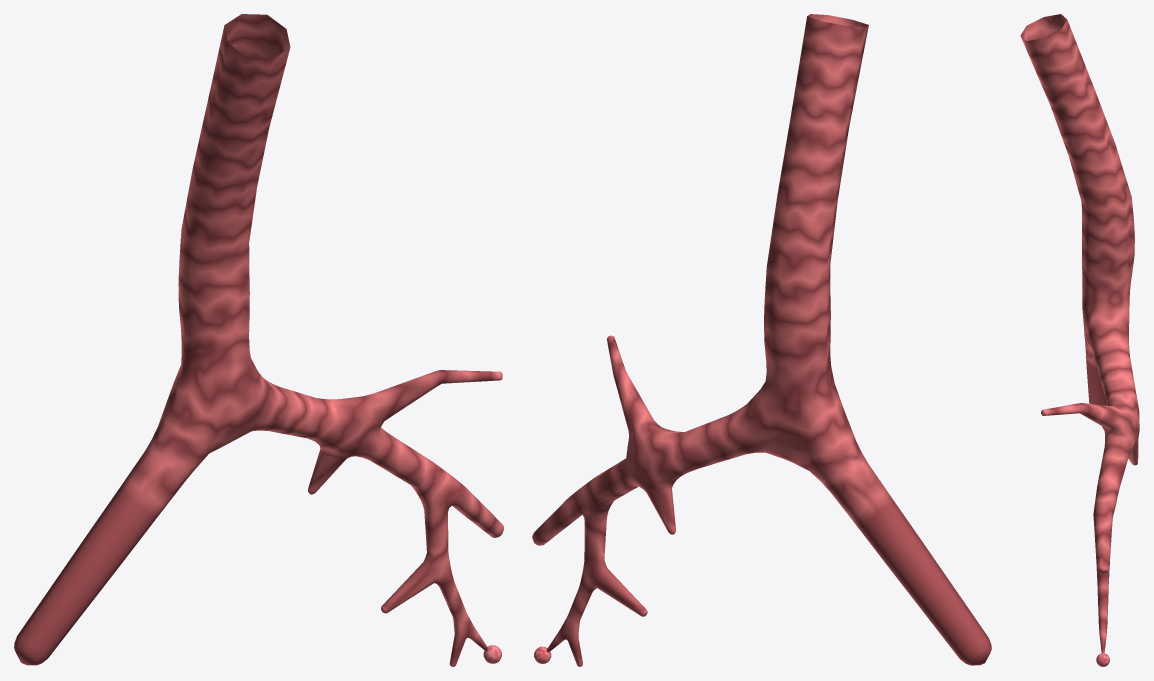
Rendered from trachea_and_bronchioles.fbx.
3 renders of one model, left to right at view 1: azimuth 30°, elevation 25°; view 2: azimuth 150°, elevation 25°; view 3: azimuth 270°, elevation 25°, orthographic. The views are drawn at different scales.
Parts seen in each view (by area): view 1: trachea_bronchioles; view 2: trachea_bronchioles; view 3: trachea_bronchioles.
Boxes of the visible parts, x1,y1,x2,y2 form: trachea_bronchioles: (14,14,503,666); trachea_bronchioles: (532,14,991,666); trachea_bronchioles: (1020,14,1139,653).
Bounding box in the file's own units: 581 × 836 × 165.
Materials: 2 (2 with a texture image).
